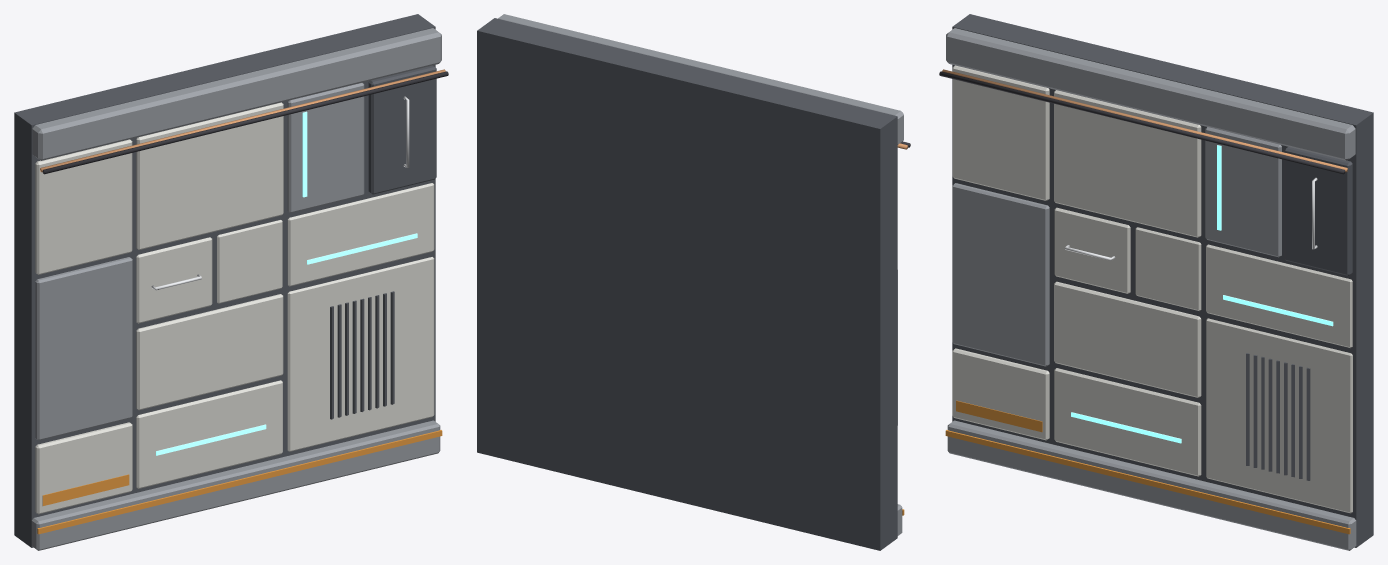
Rendered from wall_plain_a.glb.
The picture shows the model from 3 angles, left to right: view 1: azimuth 30°, elevation 25°; view 2: azimuth 150°, elevation 25°; view 3: azimuth 330°, elevation 25°; orthographic projection.
Visible parts, largest first — view 1: wall_plain_a; view 2: wall_plain_a; view 3: wall_plain_a.
Boxes of the visible parts, x1,y1,x2,y2 form: wall_plain_a: (14, 14, 448, 550); wall_plain_a: (477, 14, 910, 550); wall_plain_a: (939, 14, 1373, 550).
Size of the model in its own units: 4 by 4 by 0.525.
